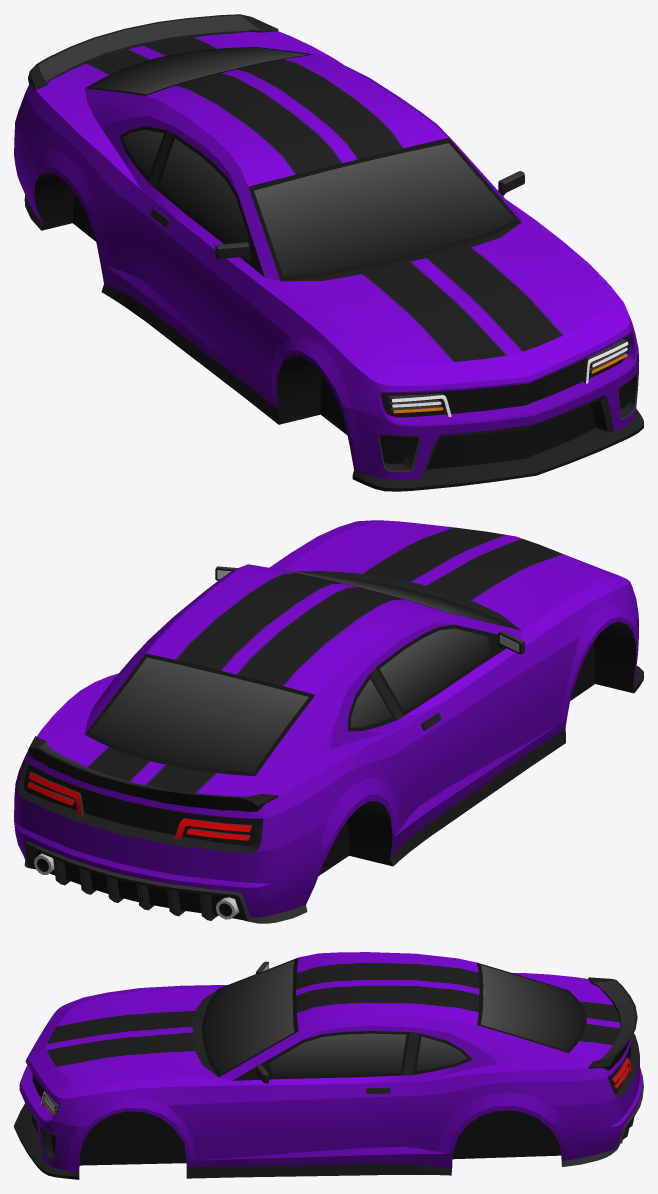
File: BlueCar.fbx
3 renders of one model, top to bottom at view 1: azimuth 30°, elevation 25°; view 2: azimuth 150°, elevation 25°; view 3: azimuth 270°, elevation 25°, orthographic. The views are drawn at different scales.
Parts seen in each view (by area): view 1: Body, Spoiler; view 2: Body, Spoiler; view 3: Body, Spoiler.
Part boxes in pixels (x1,y1,x2,y2): Body: [14, 31, 643, 491]; Spoiler: [28, 14, 278, 90]; Body: [14, 520, 643, 923]; Spoiler: [28, 736, 278, 811]; Body: [14, 952, 643, 1179]; Spoiler: [588, 977, 637, 1070].
Size of the model in its own units: 4.12 by 2.46 by 9.64.
3 materials, 3 textured.
